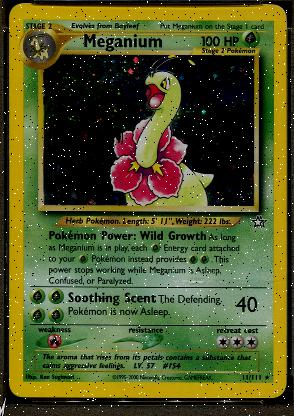Card: (2, 0, 288, 404)
